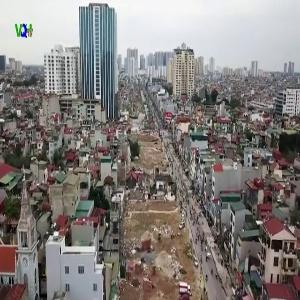drone: (97, 208, 141, 252)
